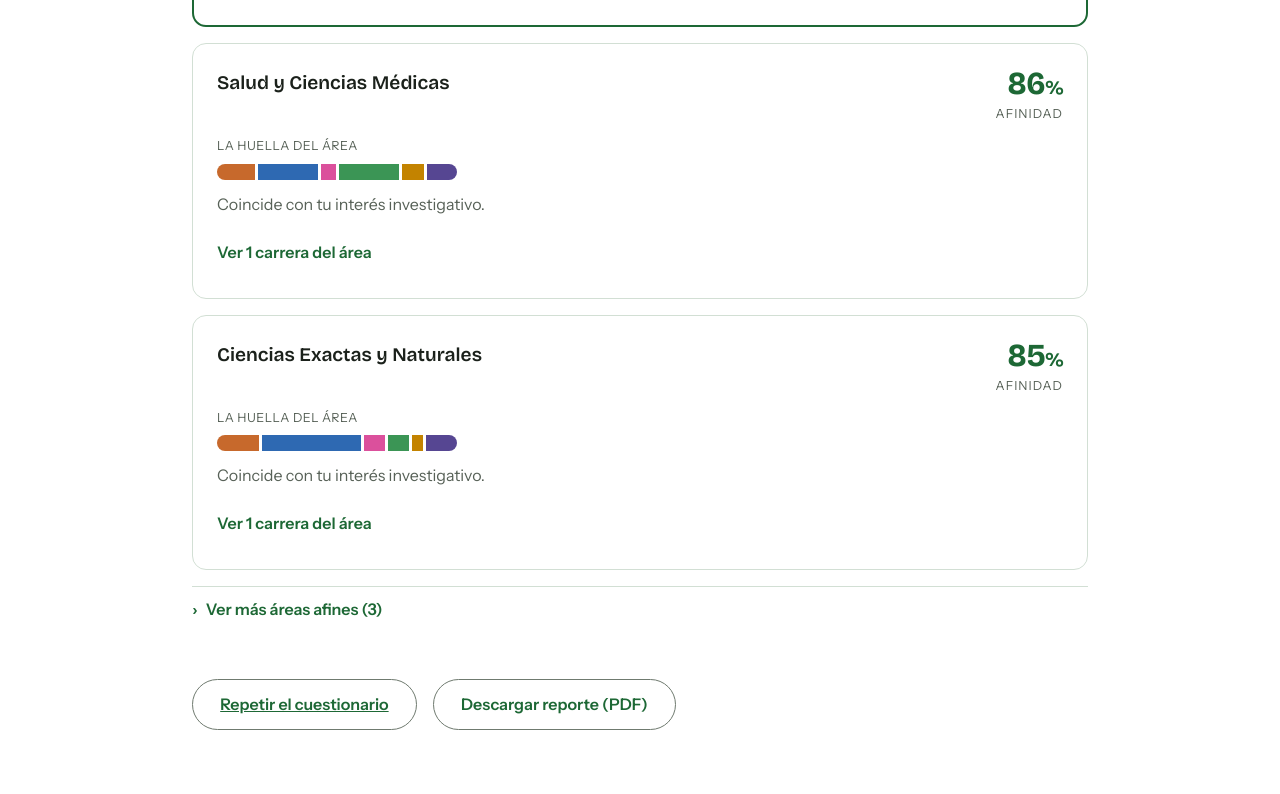
ResultadoPage (HU-02 + HU-03) › Descargar reporte en PDF (HU-06) › si falla la generación, muestra un mensaje de error (contenido del reporte esc. 3)
(page scrolled)
What coordinates should you click on to do the following:
click the button "Descargar reporte (PDF)"
I would click on:
 (554, 704)
Its box is [433,679,676,730].
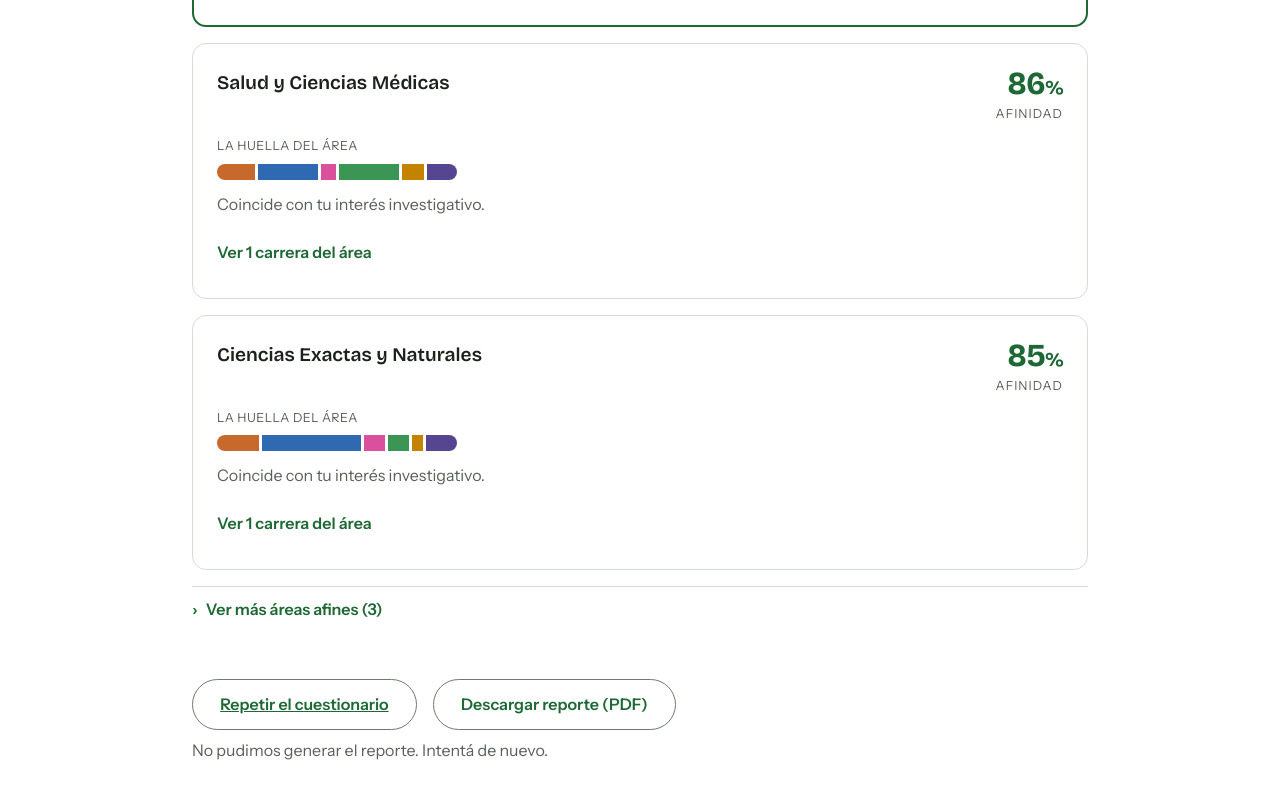
Expected: the text "No pudimos generar el reporte. Intentá de nuevo." is shown, [192,740,548,760]
